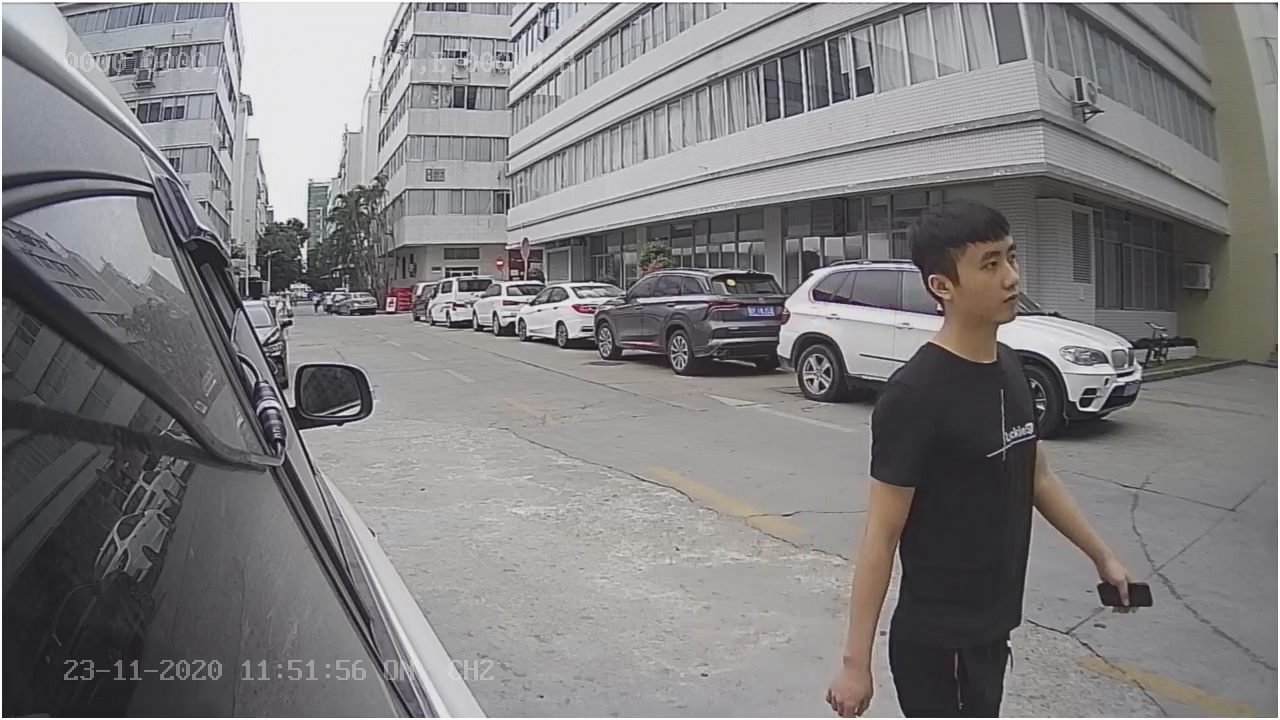person: (869, 188, 1080, 563)
